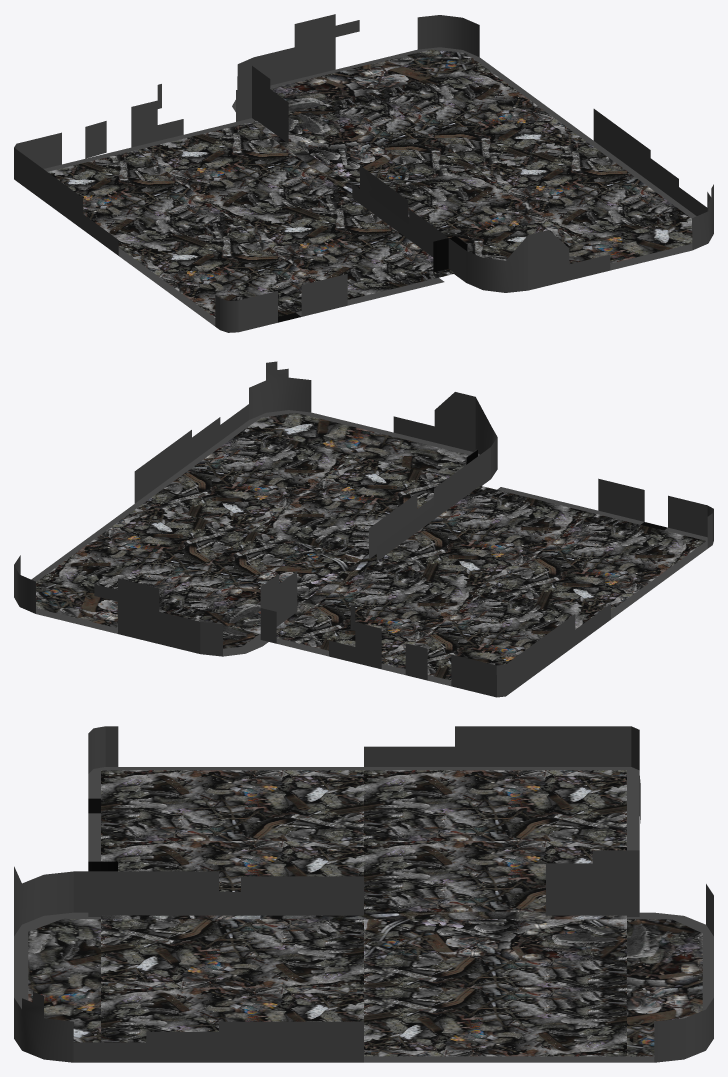
File: destroted_building.fbx
3 renders of one model, top to bottom at view 1: azimuth 30°, elevation 25°; view 2: azimuth 150°, elevation 25°; view 3: azimuth 270°, elevation 25°, orthographic. The views are drawn at different scales.
Visible parts, largest first — view 1: Plane; view 2: Plane; view 3: Plane.
Boxes of the visible parts, box(x1,y1,x2,y2) form: Plane: box(14, 14, 713, 332); Plane: box(14, 361, 713, 697); Plane: box(14, 726, 713, 1062).
Bounding box in the file's own units: 3935 × 449 × 3941.
Materials: 3 (1 with a texture image).
